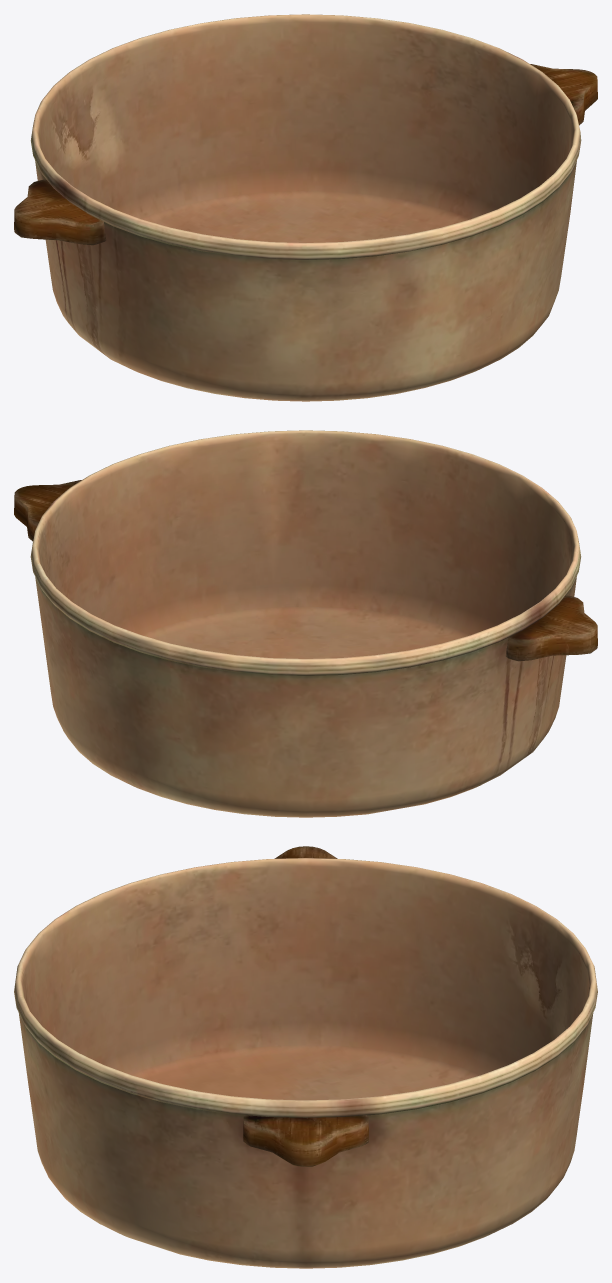
File: kettle.glb
3 renders of one model, top to bottom at view 1: azimuth 30°, elevation 25°; view 2: azimuth 150°, elevation 25°; view 3: azimuth 270°, elevation 25°, orthographic. The views are drawn at different scales.
Parts seen in each view (by area): view 1: brass_pot_02; view 2: brass_pot_02; view 3: brass_pot_02.
Part boxes in pixels (x1=…): brass_pot_02: x1=14, y1=14, x2=597, y2=401; brass_pot_02: x1=14, y1=430, x2=597, y2=817; brass_pot_02: x1=14, y1=846, x2=597, y2=1268.
Size of the model in its own units: 0.3666 by 0.1083 by 0.3023.
1 material, 1 textured.
